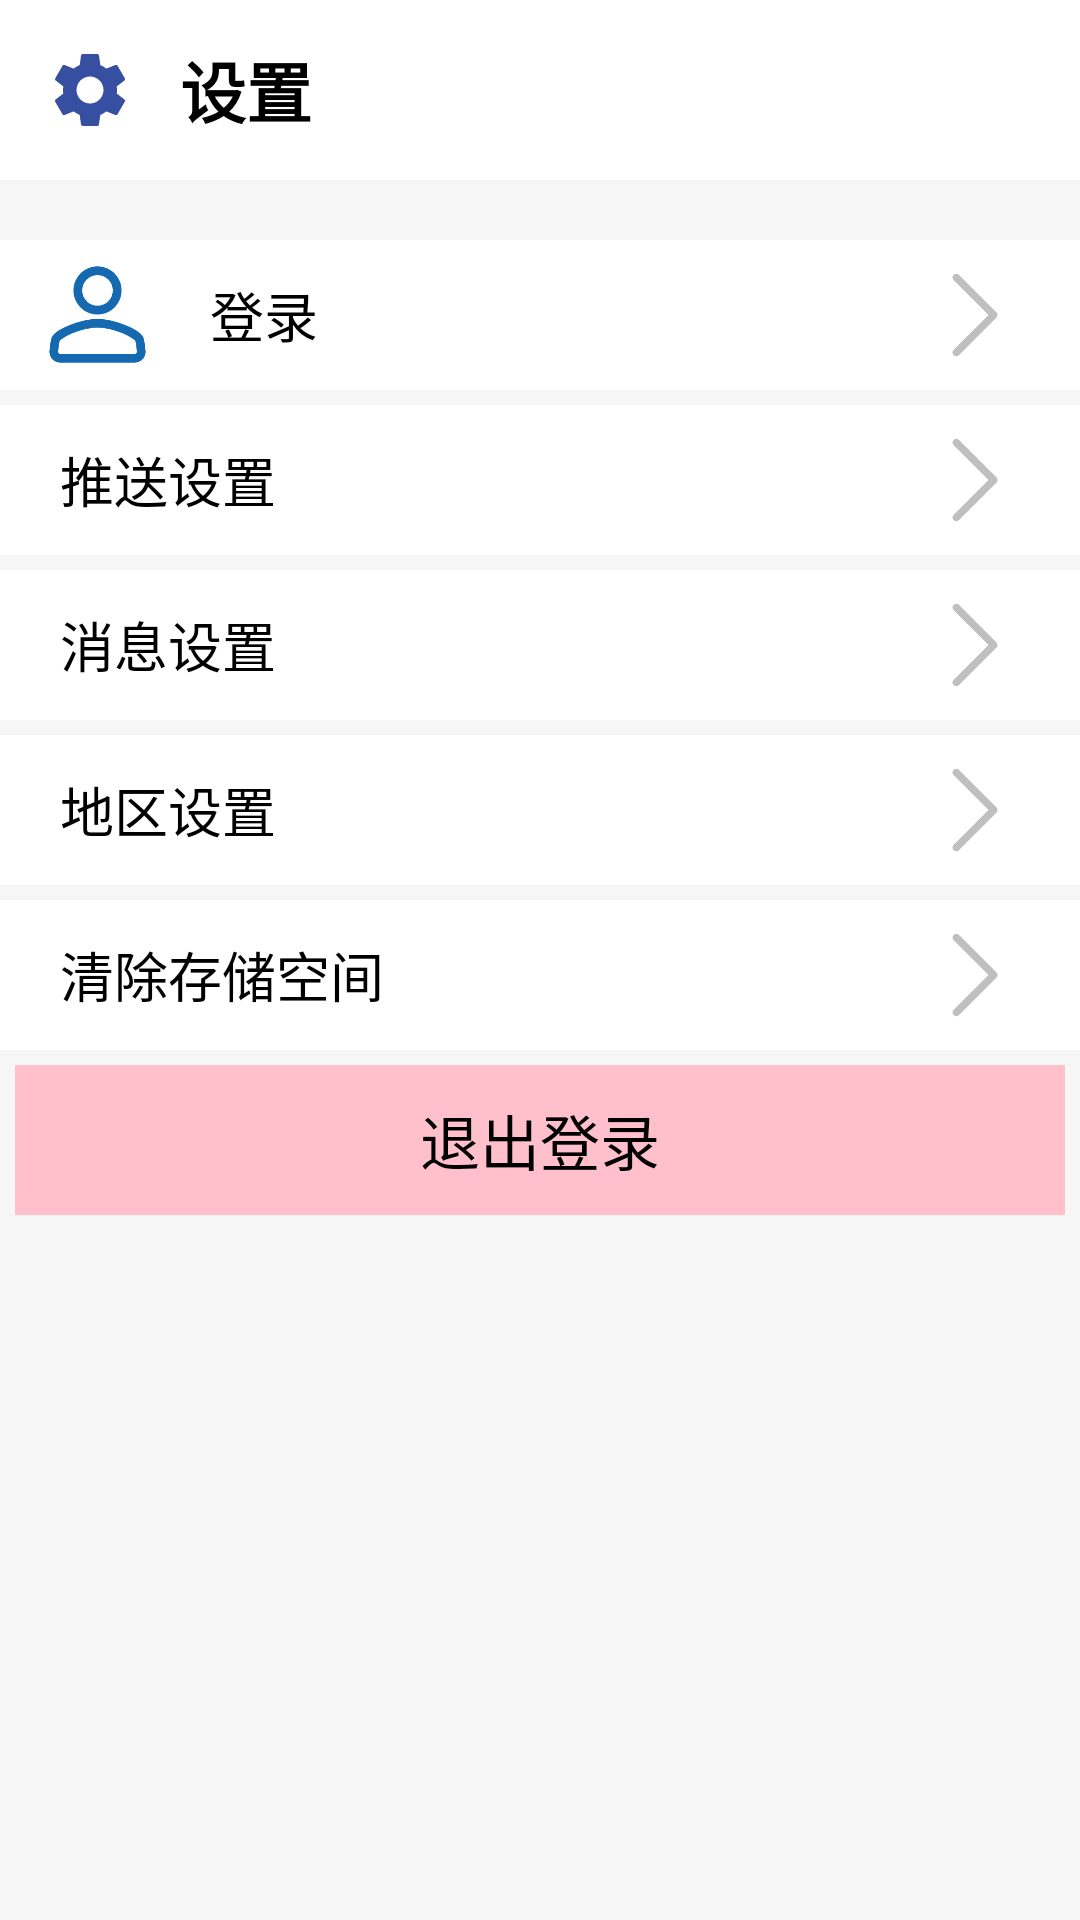

Icon bounding boxes for this 1080*1920 phone screenshot, format [x1,y1,x2,y2]:
arrow right: [952,274,997,356], [952,439,997,521], [952,604,997,686], [952,769,997,851], [952,934,997,1016]
settings: [55,54,125,126]
user: [49,266,146,363]
